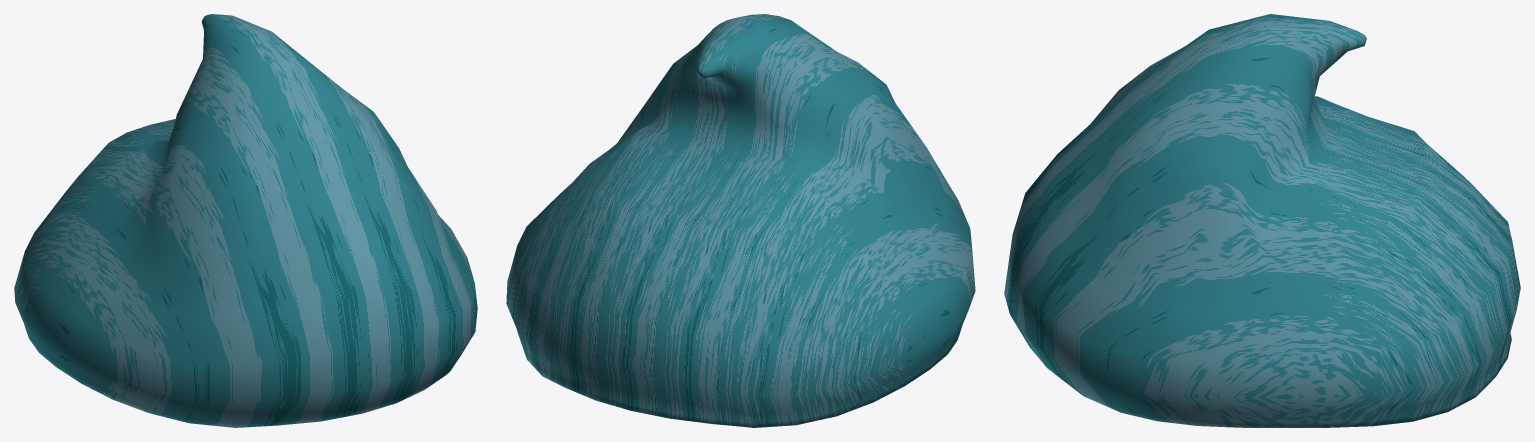
File: poring_idle.FBX
3 renders of one model, left to right at view 1: azimuth 30°, elevation 25°; view 2: azimuth 150°, elevation 25°; view 3: azimuth 270°, elevation 25°, orthographic. The views are drawn at different scales.
Visible parts, largest first — view 1: Object001; view 2: Object001; view 3: Object001.
Boxes of the visible parts, x1,y1,x2,y2 form: Object001: (14, 14, 477, 427); Object001: (506, 14, 975, 427); Object001: (1004, 14, 1520, 427).
Size of the model in its own units: 65.6 by 49.2 by 69.72.
Materials: 1 (1 with a texture image).
